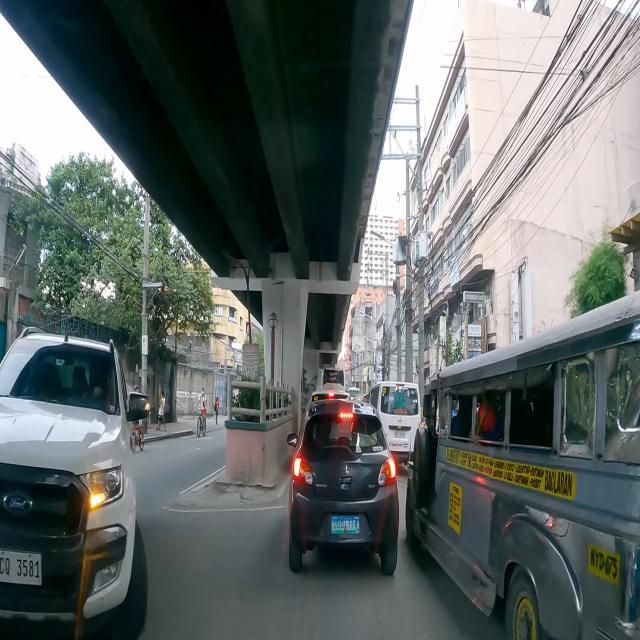bike: (196, 387, 207, 437), (130, 420, 146, 454)
bus: (319, 366, 346, 392)
car: (0, 316, 152, 640), (287, 400, 400, 578), (366, 382, 422, 464)
jeepney: (404, 288, 640, 640)
